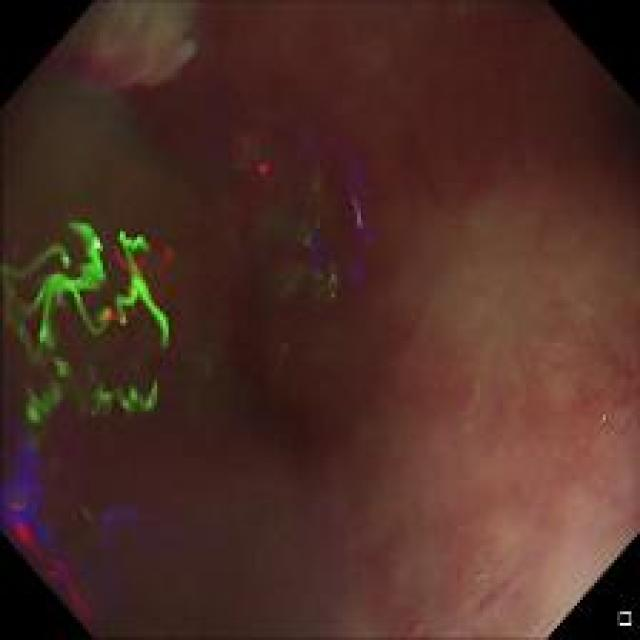blur: (5, 4, 392, 635)
bubbles: (406, 618, 426, 636), (572, 325, 585, 340), (554, 332, 566, 348), (472, 566, 486, 579)
color misalignment: (2, 212, 174, 419), (8, 436, 189, 626), (230, 102, 389, 305), (22, 1, 185, 134)
contrast: (10, 9, 392, 635)
